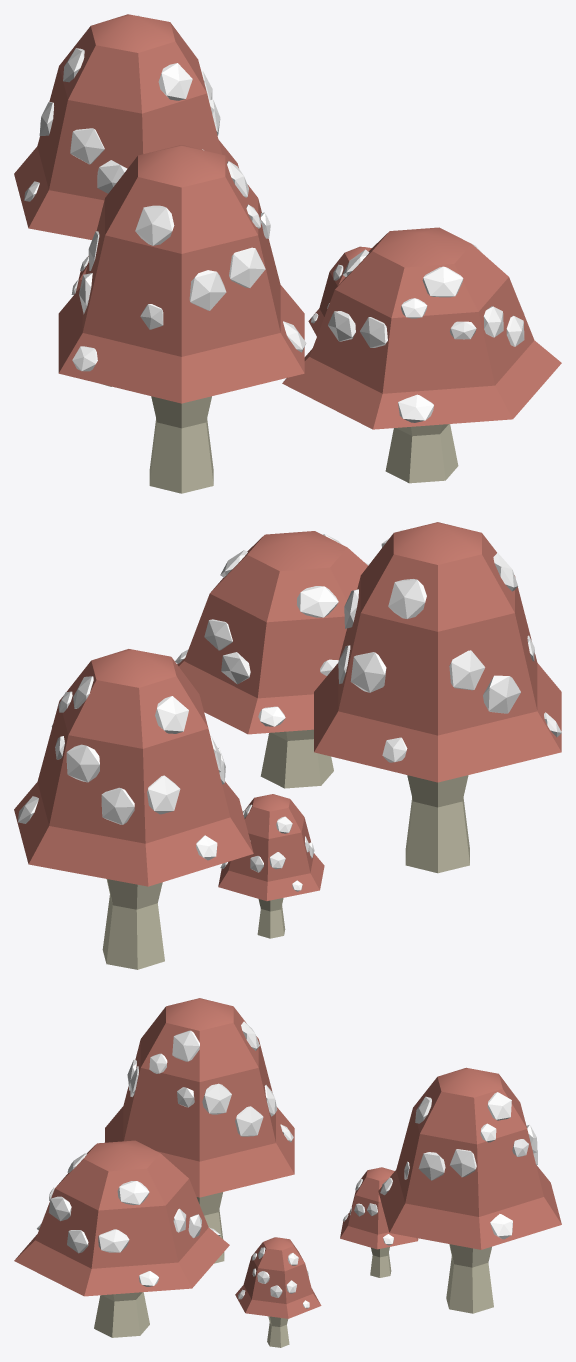
File: Toadstool Unharvested.fbx
The picture shows the model from 3 angles, top to bottom: view 1: azimuth 30°, elevation 25°; view 2: azimuth 150°, elevation 25°; view 3: azimuth 270°, elevation 25°; orthographic projection. The views are drawn at different scales.
Parts seen in each view (by area): view 1: mushroom5; view 2: mushroom5; view 3: mushroom5.
Boxes of the visible parts, left/top/right/bottom form: mushroom5: left=14, top=14, right=561, bottom=493; mushroom5: left=14, top=522, right=561, bottom=969; mushroom5: left=14, top=998, right=561, bottom=1347.
Bounding box in the file's own units: 0.3886 × 0.2877 × 0.558.
